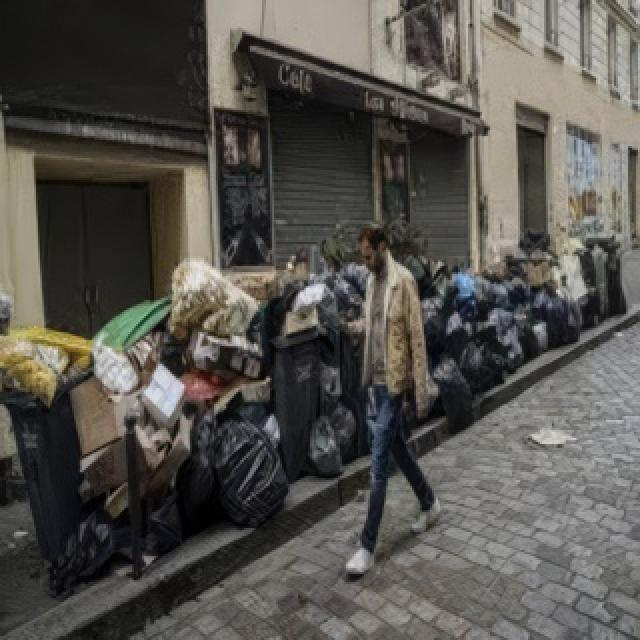Trashbag: (220, 417, 290, 518), (45, 514, 125, 595), (427, 355, 489, 432), (400, 294, 451, 361), (534, 291, 588, 350), (494, 323, 544, 378), (310, 407, 351, 472), (327, 261, 373, 316)
